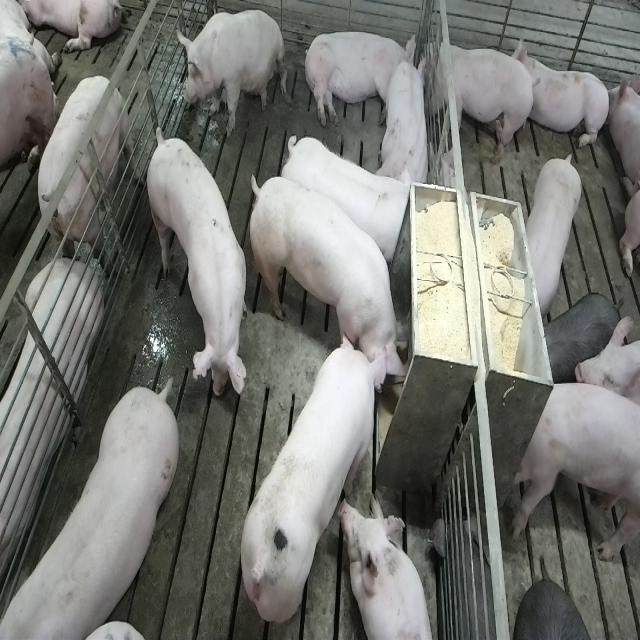Feeding: (239, 332, 393, 624), (252, 173, 416, 398)
Lateral_lying: (302, 28, 419, 128)
Sitting: (176, 7, 286, 137)
Standing: (6, 381, 182, 640), (144, 130, 245, 422), (510, 379, 638, 565), (29, 74, 132, 278), (281, 129, 412, 262), (421, 32, 536, 168), (524, 148, 587, 314), (539, 288, 619, 384)
Sternal_lying: (0, 260, 100, 601), (343, 494, 437, 640), (517, 33, 613, 156), (378, 51, 433, 193)
